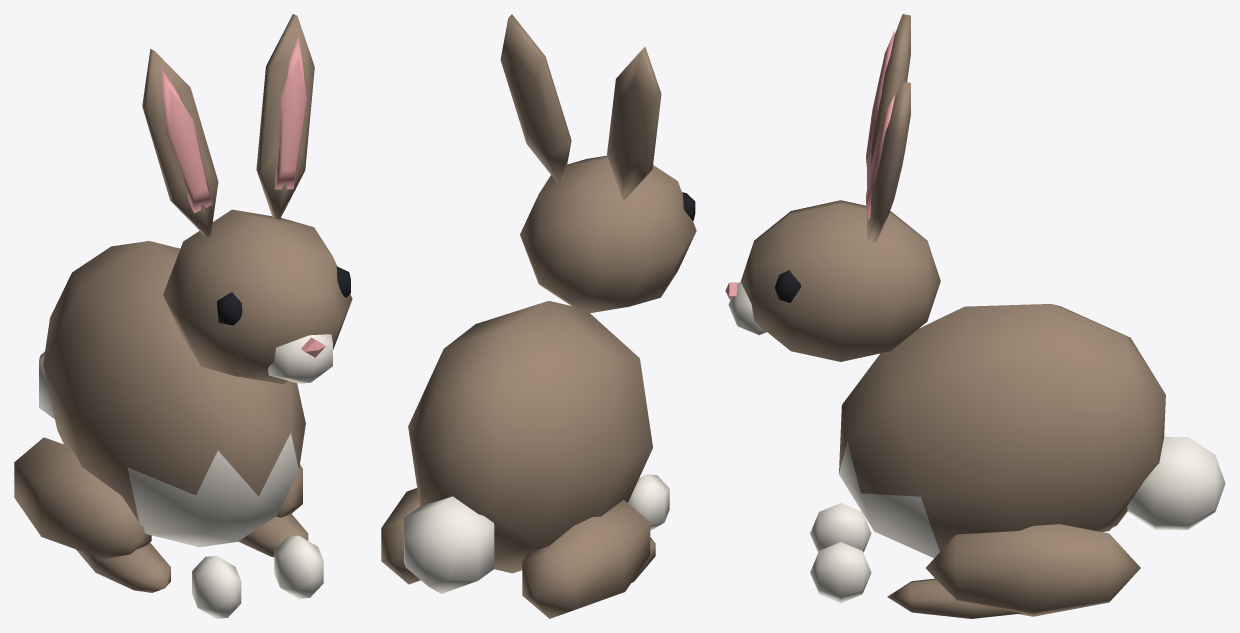
File: rabbit.glb
The picture shows the model from 3 angles, left to right: view 1: azimuth 30°, elevation 25°; view 2: azimuth 150°, elevation 25°; view 3: azimuth 270°, elevation 25°; orthographic projection. The views are drawn at different scales.
Parts seen in each view (by area): view 1: Rabbit_Body, Rabbit_Head, Rabbit_EarL, Rabbit_EarR; view 2: Rabbit_Body, Rabbit_Head, Rabbit_EarL, Rabbit_EarR; view 3: Rabbit_Body, Rabbit_Head, Rabbit_EarL, Rabbit_EarR.
Boxes of the visible parts, x1=… form: Rabbit_Body: x1=14, y1=241, x2=323, y2=618; Rabbit_Head: x1=163, y1=209, x2=352, y2=384; Rabbit_EarL: x1=256, y1=14, x2=314, y2=219; Rabbit_EarR: x1=142, y1=49, x2=218, y2=236; Rabbit_Body: x1=381, y1=301, x2=669, y2=618; Rabbit_Head: x1=520, y1=155, x2=696, y2=313; Rabbit_EarL: x1=500, y1=14, x2=571, y2=183; Rabbit_EarR: x1=607, y1=47, x2=661, y2=199; Rabbit_Body: x1=810, y1=304, x2=1225, y2=618; Rabbit_Head: x1=725, y1=200, x2=940, y2=361; Rabbit_EarL: x1=866, y1=81, x2=910, y2=242; Rabbit_EarR: x1=866, y1=14, x2=910, y2=188.
Size of the model in its own units: 0.1706 by 0.3842 by 0.325.
